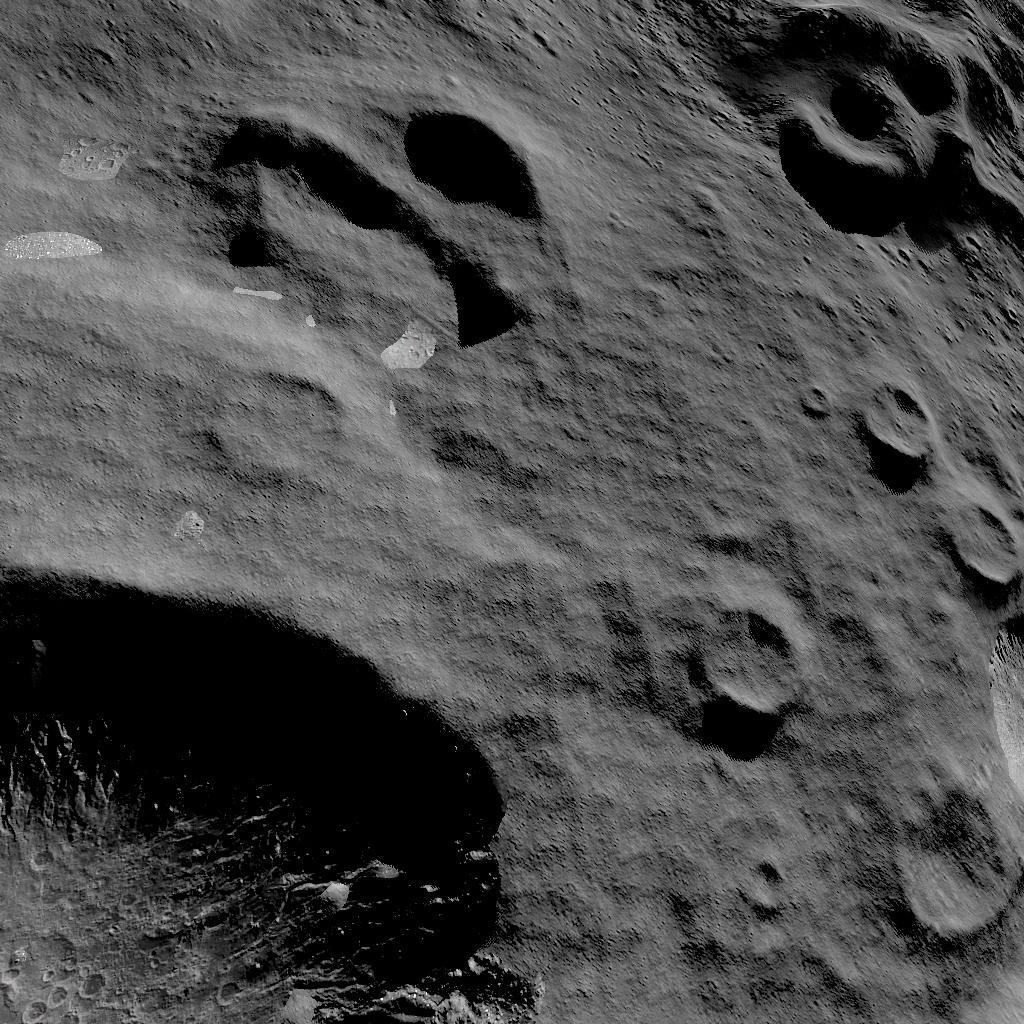Crater: (4, 558, 546, 1024), (210, 96, 572, 352), (756, 2, 1024, 236), (869, 740, 1024, 980), (688, 588, 816, 762), (925, 492, 1024, 612), (858, 374, 942, 474)
Plan surface: (594, 250, 850, 570), (0, 282, 200, 542)
